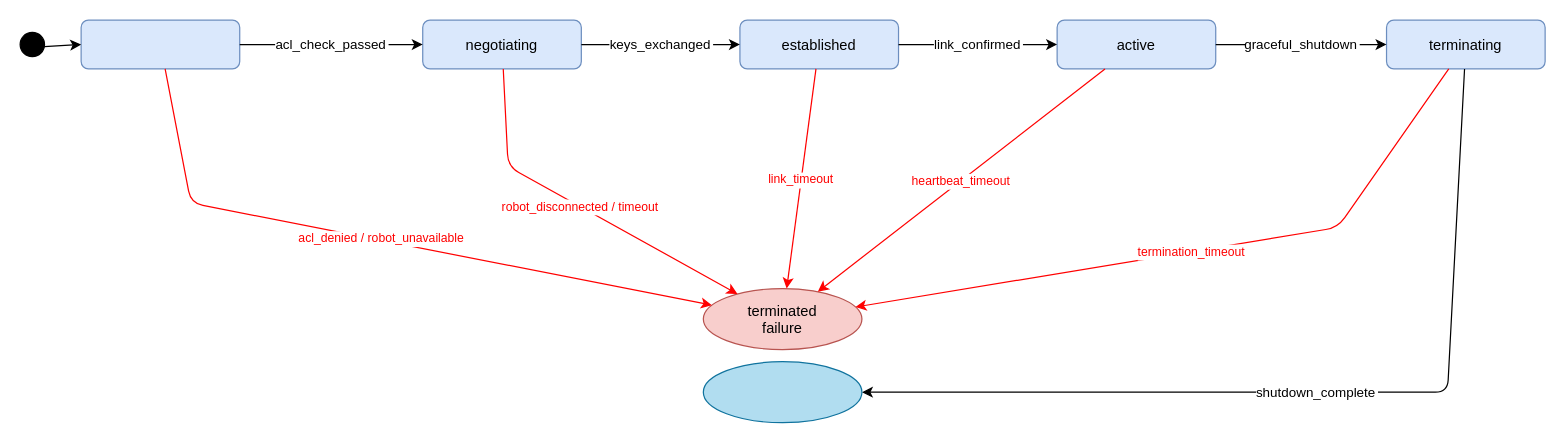
Image size: 1565x443. Some labels were removed from this diagram. The shapes that lost their labels are listed below. From the top down, each one's centre as x and y in pixels, then its label:
At point 160,44: "requested".
At point 782,392: "terminated planned".
